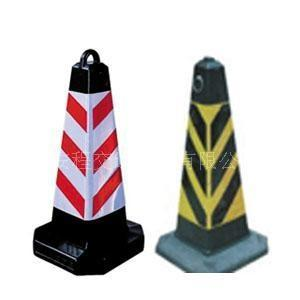cone_barrel: (34, 43, 142, 271), (157, 61, 265, 268)
